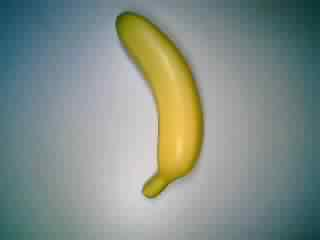banana: (111, 10, 208, 203)
